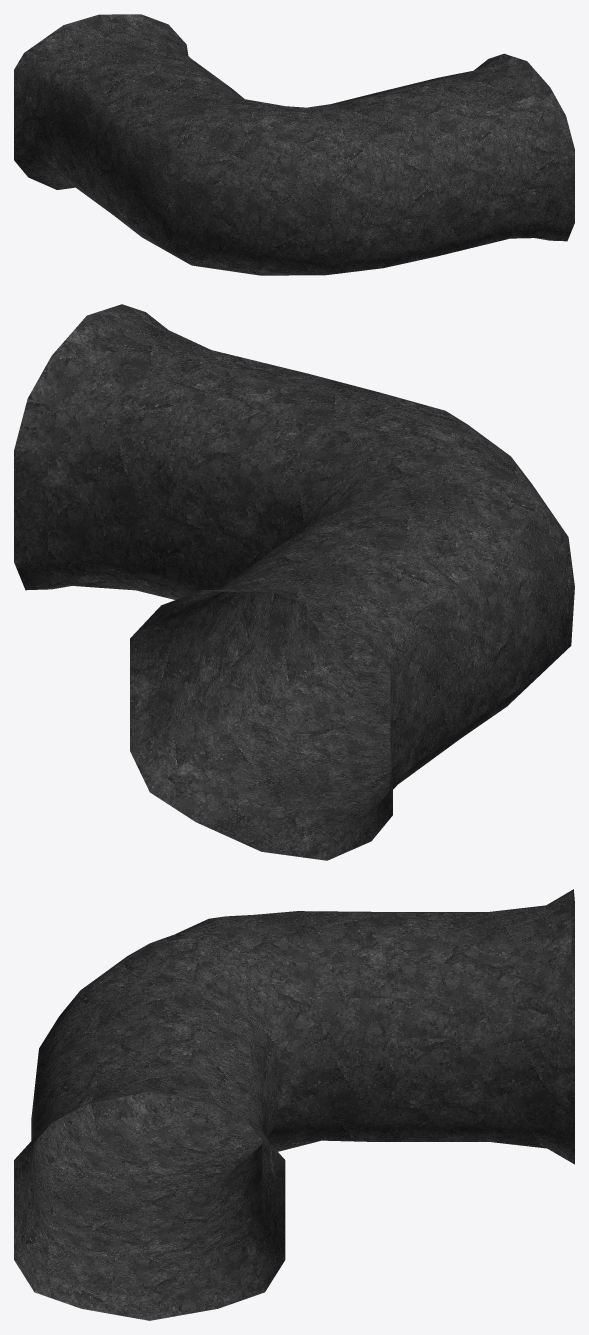
The model's file is CaveHallwayBend2.glb.
3 views of the same model, one above another, from view 1: azimuth 30°, elevation 25°; view 2: azimuth 150°, elevation 25°; view 3: azimuth 270°, elevation 25° (orthographic). The views are drawn at different scales.
Visible parts, largest first — view 1: Cube.001; view 2: Cube.001; view 3: Cube.001.
Boxes of the visible parts, <box> form: Cube.001: <box>14,14,574,275</box>; Cube.001: <box>14,304,574,860</box>; Cube.001: <box>14,889,574,1320</box>.
Bounding box in the file's own units: 15.85 × 7.27 × 15.84.
Materials: 1 (1 with a texture image).
